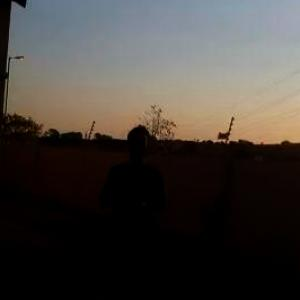follow: (96, 119, 170, 299)
